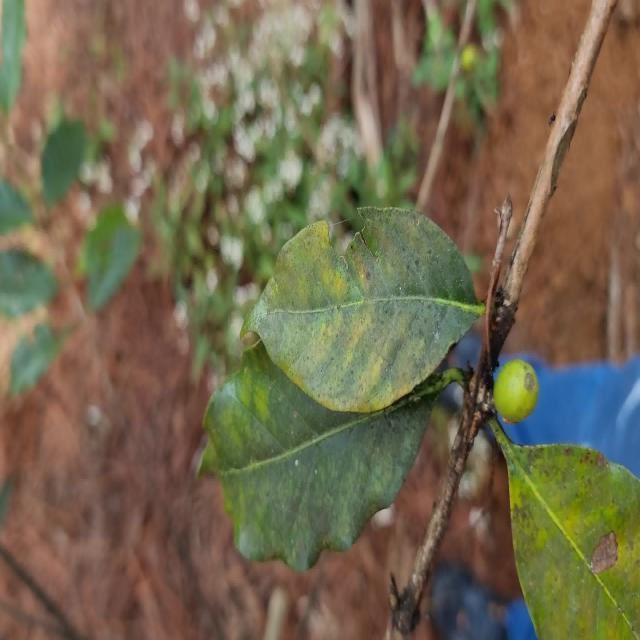leaves: (221, 161, 508, 447)
